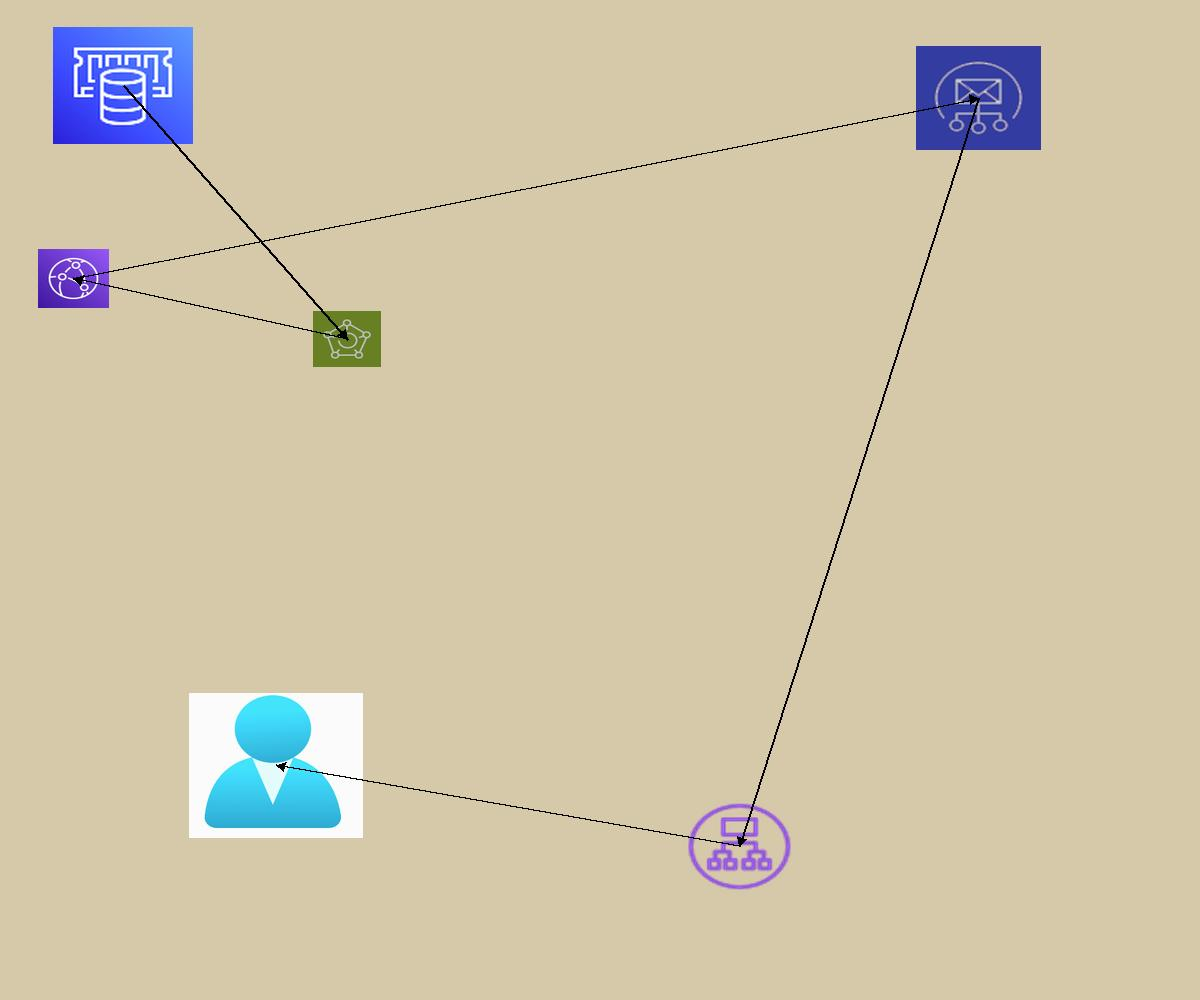AWS-Backup: (313, 311, 381, 367)
AWS-CloudFront: (38, 249, 109, 308)
AWS-ElastiCache: (53, 27, 193, 144)
AWS-Res_Elastic-Load-Balancing_Application-Load-Balancer: (684, 800, 795, 893)
AWS-Simple-Email-Service: (916, 46, 1041, 150)
Azure_users: (189, 693, 363, 838)
